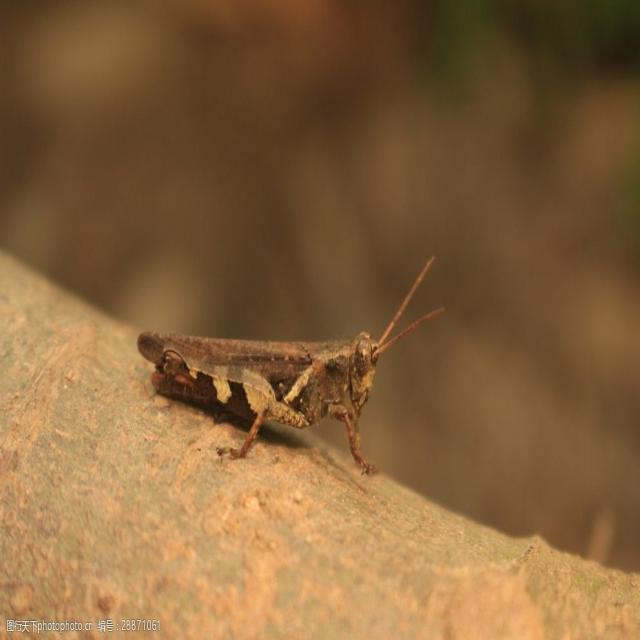ZhaMeng: (102, 281, 462, 451)
